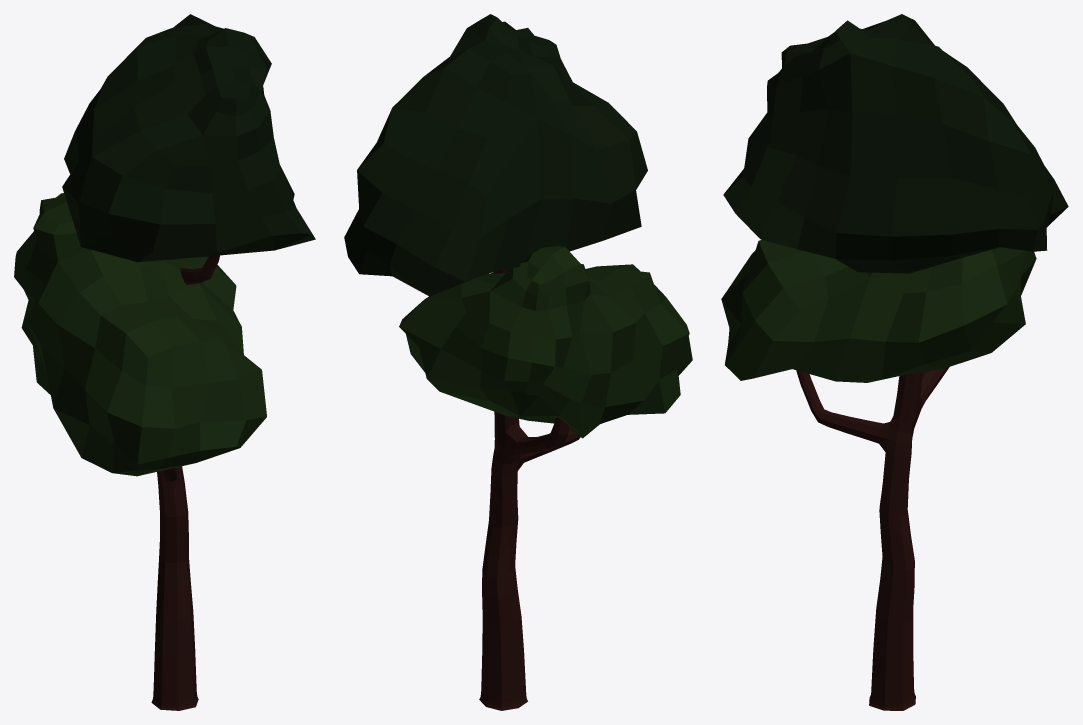
Rendered from CommonTree_3.glb.
3 renders of one model, left to right at view 1: azimuth 30°, elevation 25°; view 2: azimuth 150°, elevation 25°; view 3: azimuth 270°, elevation 25°, orthographic. The views are drawn at different scales.
Parts seen in each view (by area): view 1: CommonTree_3_Cube.031; view 2: CommonTree_3_Cube.031; view 3: CommonTree_3_Cube.031.
Boxes of the visible parts, x1,y1,x2,y2 form: CommonTree_3_Cube.031: (14,14,315,710); CommonTree_3_Cube.031: (344,14,692,710); CommonTree_3_Cube.031: (721,14,1068,710).
Bounding box in the file's own units: 1.28 × 3.46 × 1.56.
